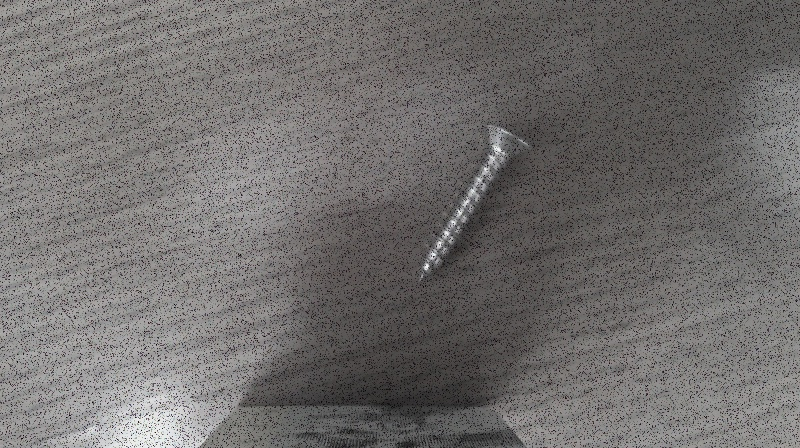S001: (411, 118, 535, 289)
